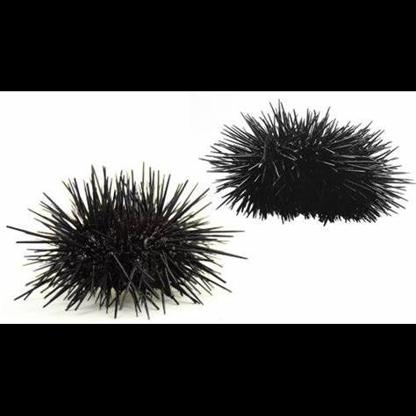urchin: (7, 162, 252, 312), (194, 95, 414, 229)
